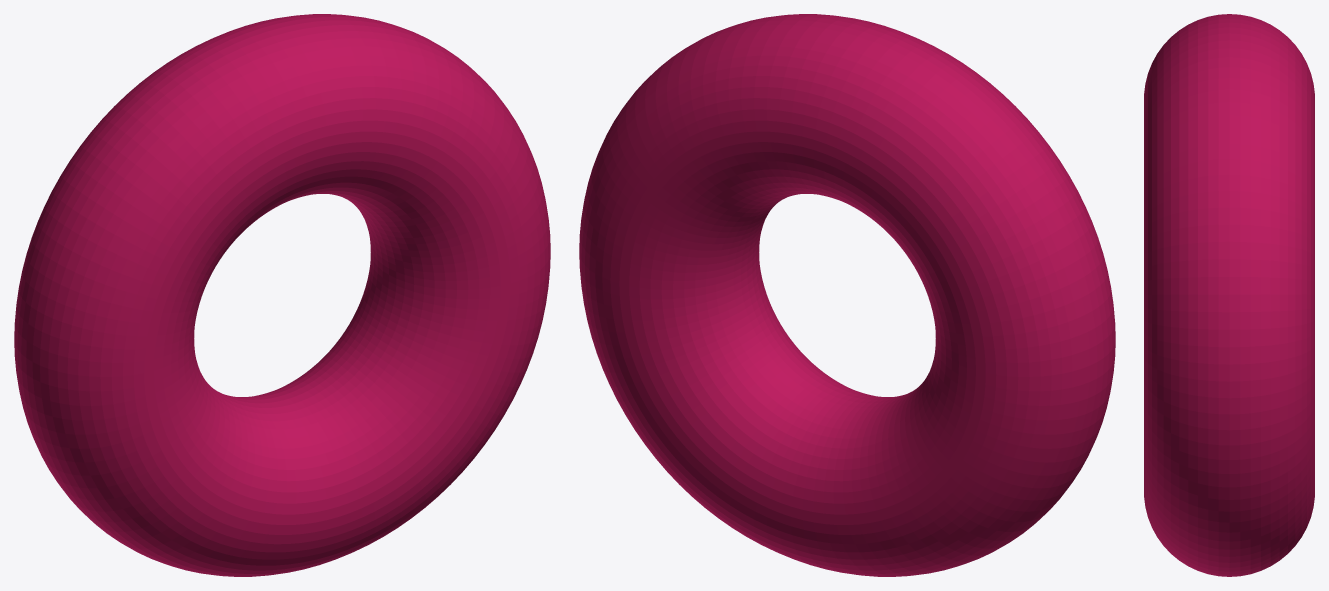
The picture shows the model from 3 angles, left to right: view 1: azimuth 30°, elevation 25°; view 2: azimuth 150°, elevation 25°; view 3: azimuth 270°, elevation 25°; orthographic projection. The views are drawn at different scales.
Parts seen in each view (by area): view 1: world; view 2: world; view 3: world.
Part boxes in pixels (left/top/right/bottom): world: left=14, top=14, right=550, bottom=576; world: left=579, top=14, right=1115, bottom=576; world: left=1144, top=14, right=1314, bottom=576.
Bounding box in the file's own units: 25.87 × 25.87 × 7.85.
